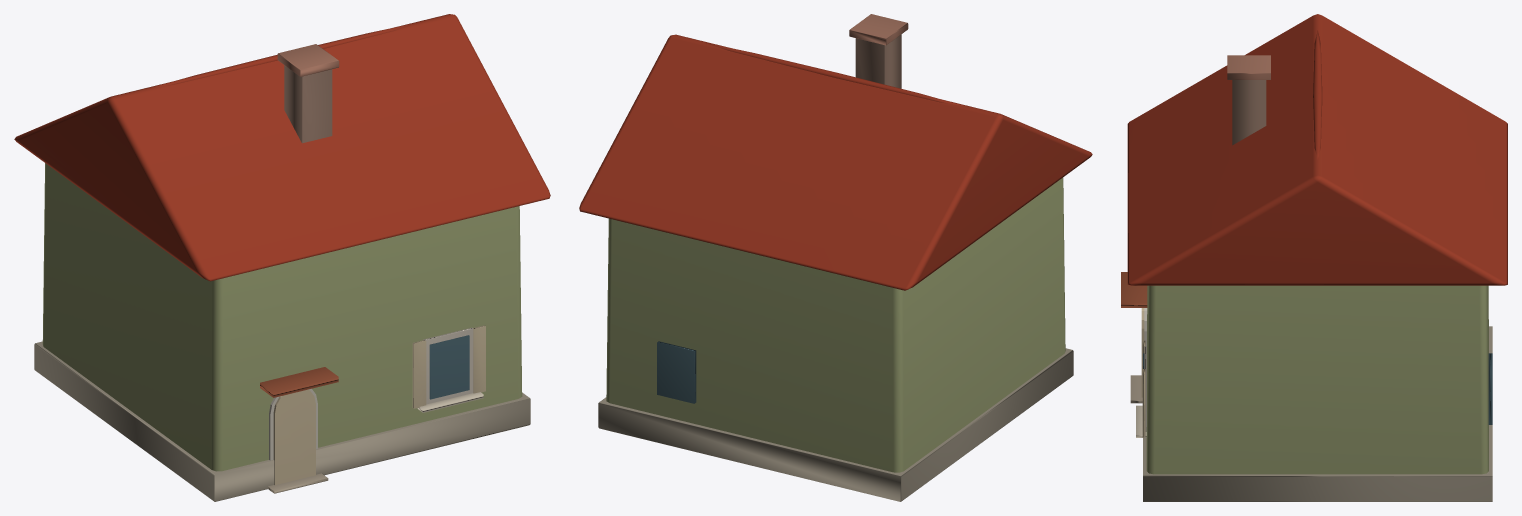
File: house_09.glb
The picture shows the model from 3 angles, left to right: view 1: azimuth 30°, elevation 25°; view 2: azimuth 150°, elevation 25°; view 3: azimuth 270°, elevation 25°; orthographic projection. The views are drawn at different scales.
Parts seen in each view (by area): view 1: house_09; view 2: house_09; view 3: house_09.
Part boxes in pixels (x1=…): house_09: x1=14, y1=14, x2=550, y2=501; house_09: x1=579, y1=14, x2=1092, y2=501; house_09: x1=1121, y1=14, x2=1507, y2=501.
Bounding box in the file's own units: 8.05 × 8.18 × 7.94.
